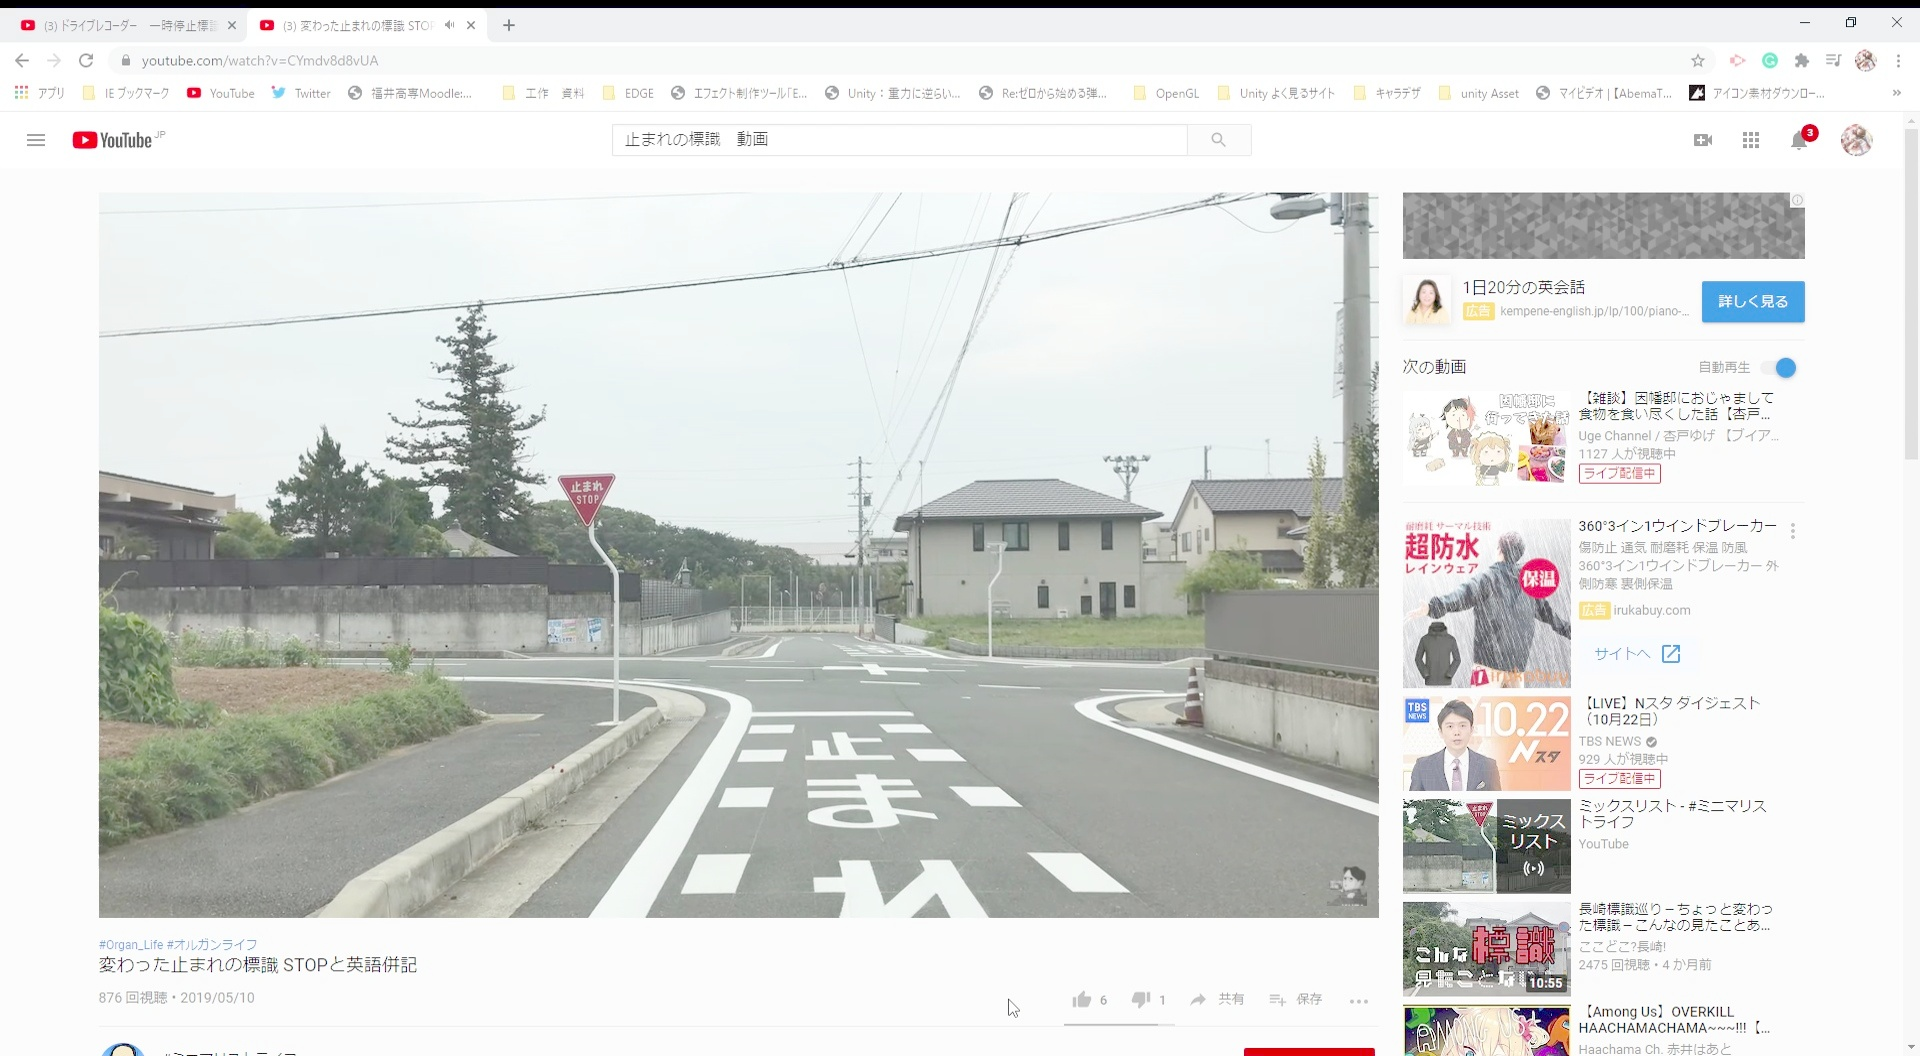Regulatory_sign_triangle: (551, 464, 617, 528)
